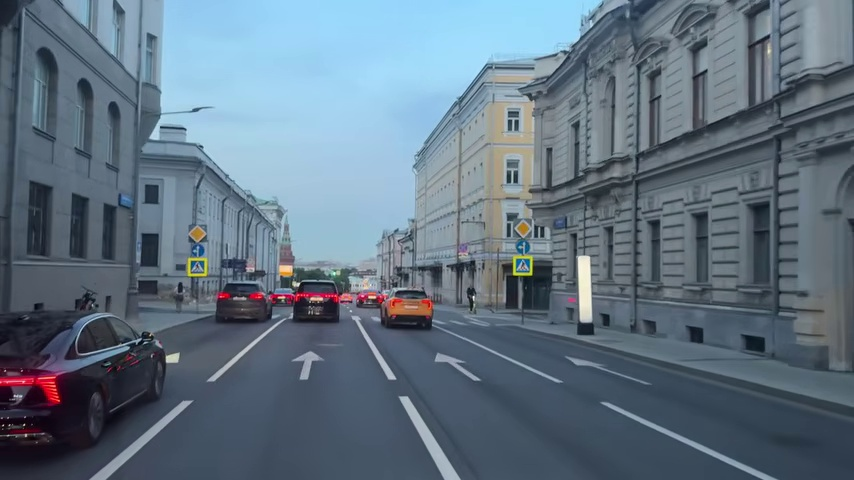apagada: (190, 102, 210, 116)
